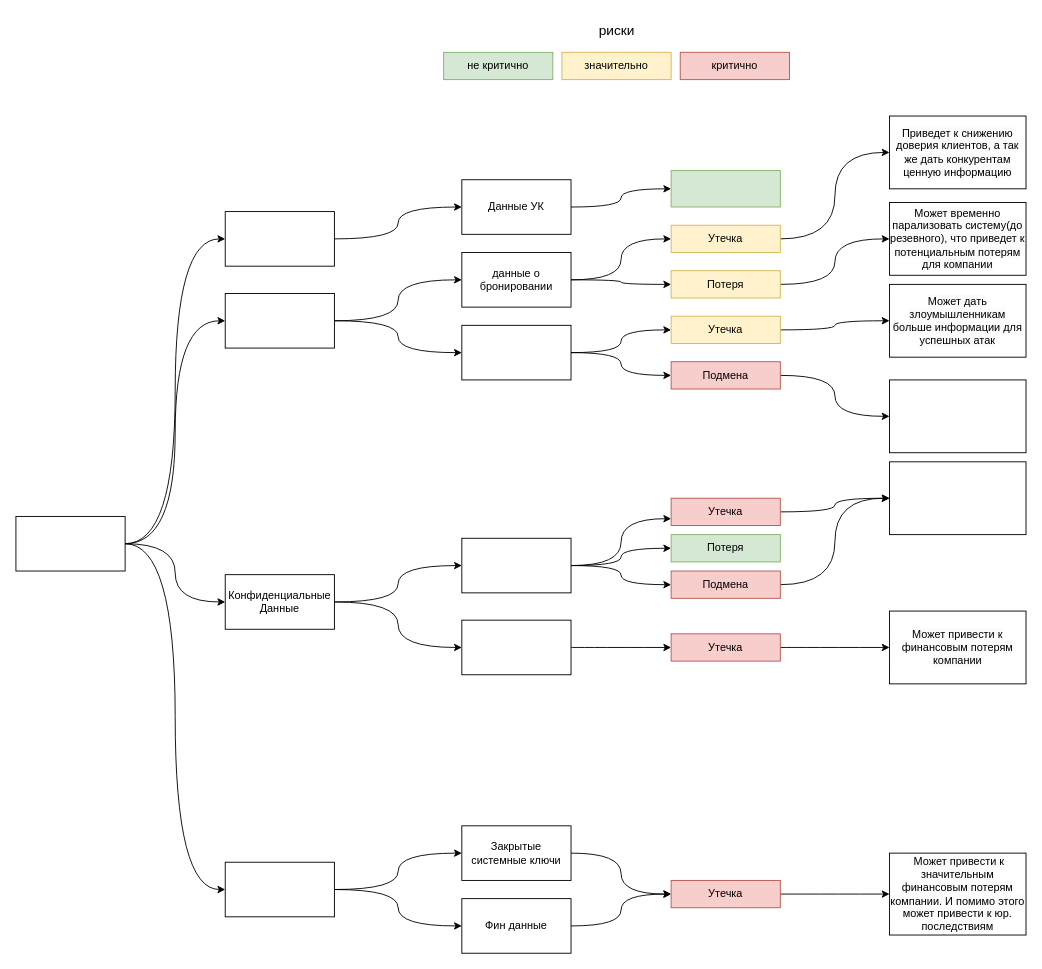
Image size: 1042x969. Some labels were removed from this diagram. The box of each missing label's shape, as (x1, y1, x2, y2) in pixels:
Безопасность данных: (15, 516, 125, 571)
Внутренние данные: (224, 293, 334, 348)
Данные о сделках: (461, 619, 571, 675)
Данные собственников\ клиентов: (461, 537, 571, 593)
Изменение данных может скрыть вредоносную деятельность: (889, 379, 1026, 453)
Помимо репутационных потерь, будут юридические последствия: (889, 461, 1026, 535)
Потеря публичных данных не критична: (670, 170, 780, 207)
Публичные данные: (224, 211, 334, 266)
Секретные данные: (224, 861, 334, 917)
Технические данные(логи , статистика): (461, 324, 571, 380)
